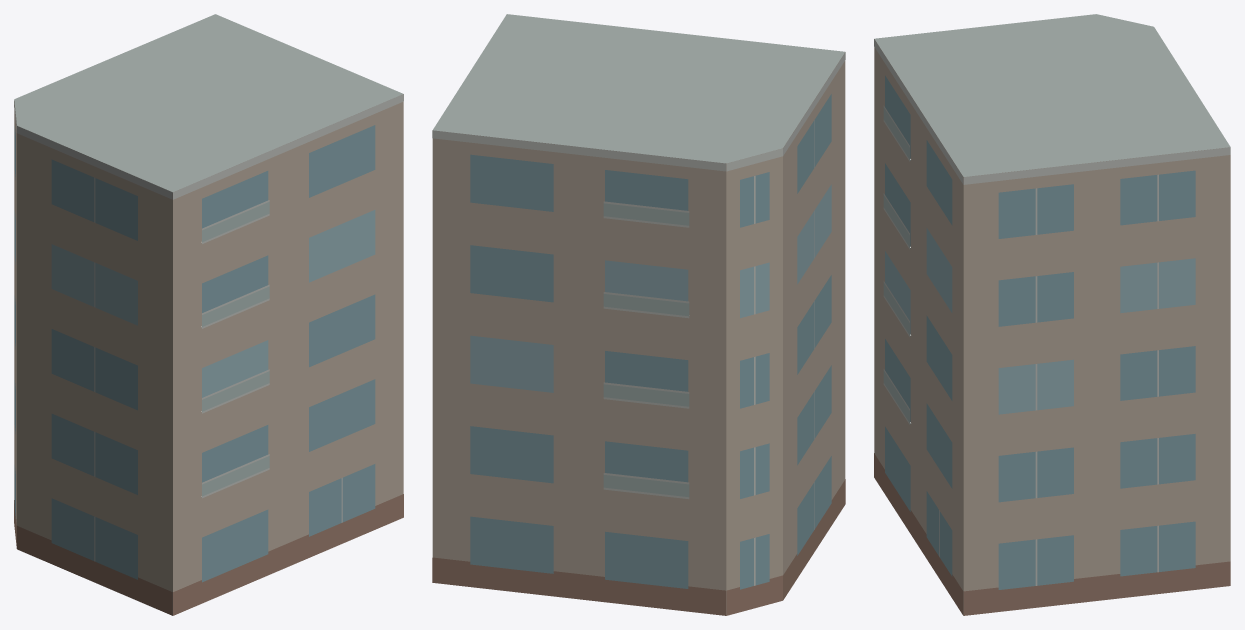
File: survey-upis-32516184.glb
3 views of the same model, side by side, from view 1: azimuth 30°, elevation 25°; view 2: azimuth 150°, elevation 25°; view 3: azimuth 270°, elevation 25° (orthographic). The views are drawn at different scales.
Parts seen in each view (by area): view 1: survey-upis-32516184.tmp; view 2: survey-upis-32516184.tmp; view 3: survey-upis-32516184.tmp.
Part boxes in pixels (left/top/right/bottom): survey-upis-32516184.tmp: left=14, top=14, right=403, bottom=615; survey-upis-32516184.tmp: left=432, top=14, right=845, bottom=615; survey-upis-32516184.tmp: left=874, top=14, right=1230, bottom=615.
Size of the model in its own units: 10.93 by 13.7 by 10.1.
